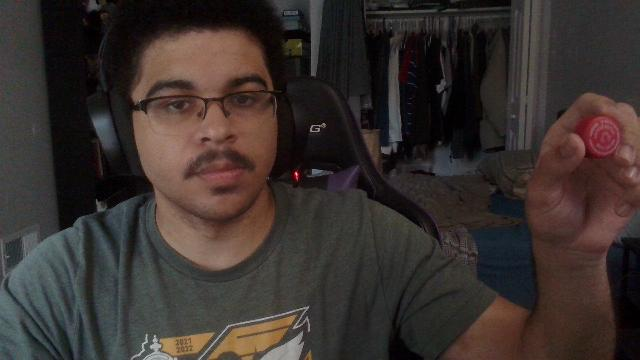cap: (573, 114, 621, 158)
